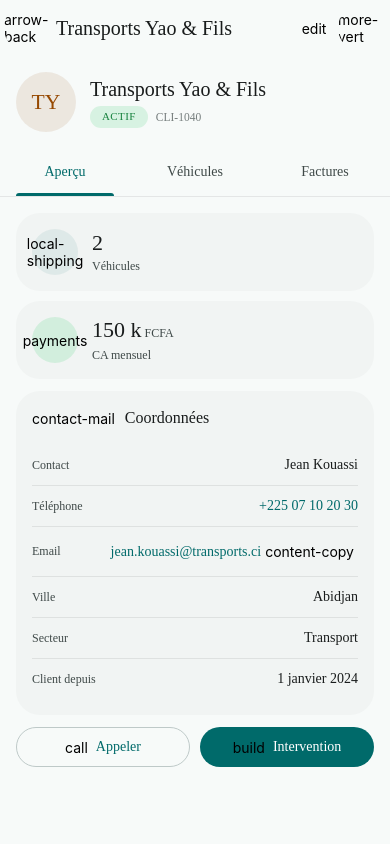
Test: démos de gabarits › fiche détail : onglets
The image size is (390, 844).
Expected: the heading "Coordonnées" is shown, [125,409,209,426]
Click the tab "Factures": (325, 172) [301,164,349,179]
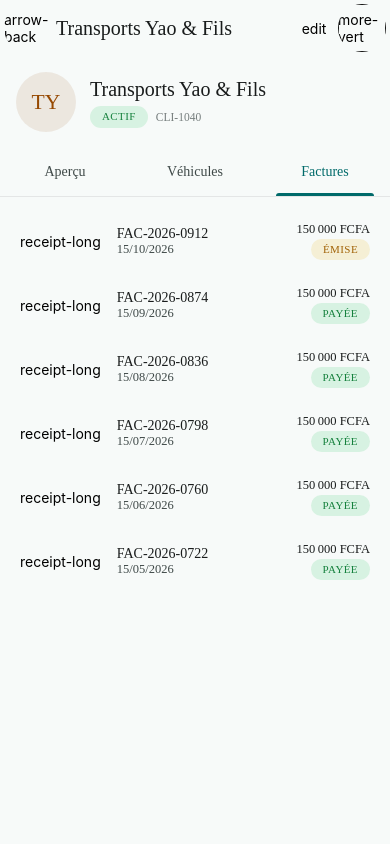
Expected: the text "FAC-2026-0912" is shown, [117,226,208,240]
